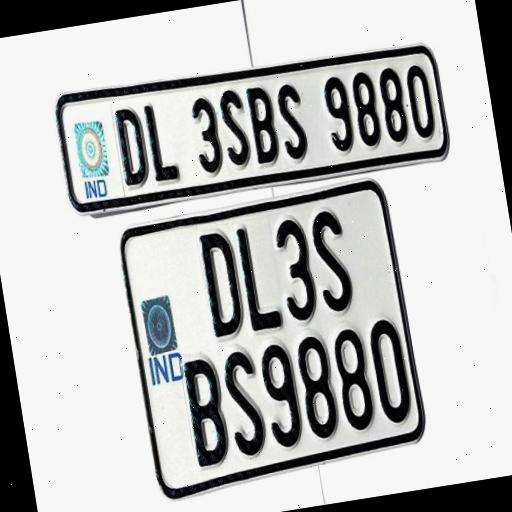number plate: (116, 180, 432, 494), (48, 34, 456, 218)
